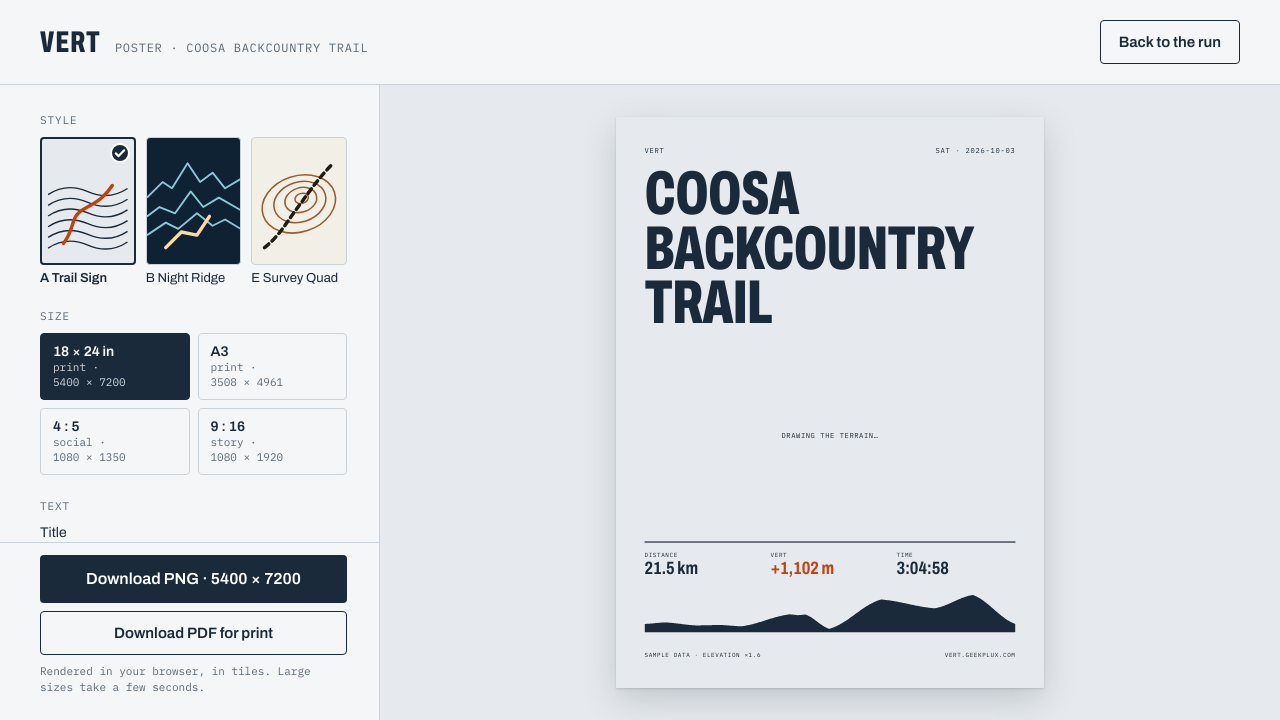
Scenario: Exporting overlay › Cancel aborts the export, returns to Poster mode and focuses Download
Click the button "Download PNG · 5400 × 7200". click: (194, 579)
box: top-left (40, 555), bottom-right (347, 603)
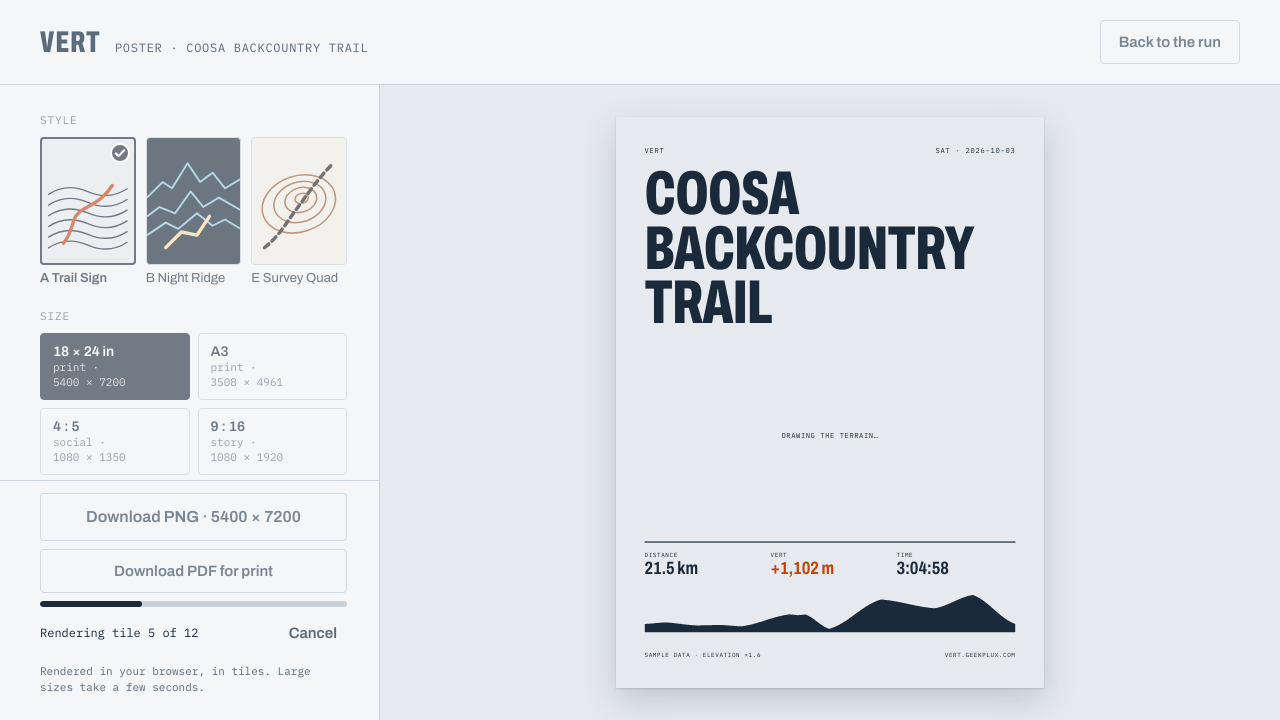
Click the button "Cancel". click: (313, 633)
box: top-left (279, 611), bottom-right (347, 655)
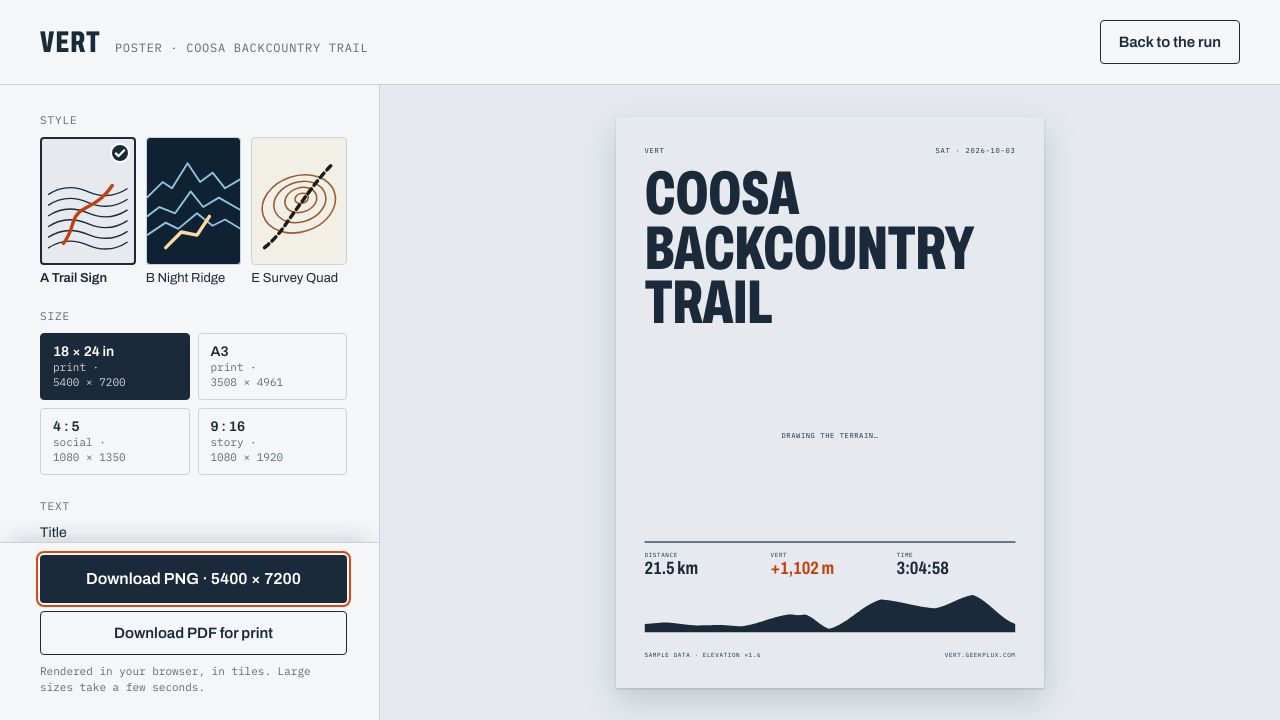
Check: the button "Download PNG · 5400 × 7200" is enabled, box top-left (40, 555), bottom-right (347, 603)
Check: the button "Back to the run" is enabled, box top-left (1100, 20), bottom-right (1240, 64)
Check: the progress indicator is gone
